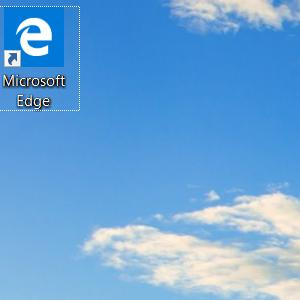edge: (4, 7, 64, 68)
